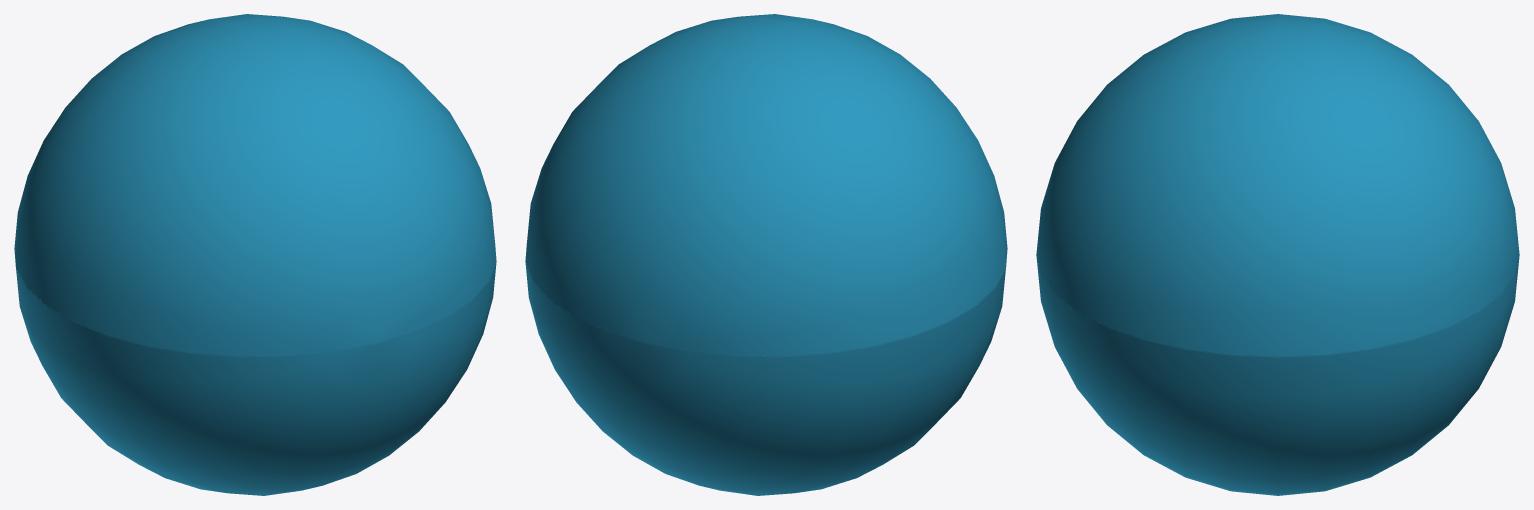
Rendered from xiaoqiu1.gltf.
3 renders of one model, left to right at view 1: azimuth 30°, elevation 25°; view 2: azimuth 150°, elevation 25°; view 3: azimuth 270°, elevation 25°, orthographic.
Parts seen in each view (by area): view 1: 对象192; view 2: 对象192; view 3: 对象192.
Part boxes in pixels (left/top/right/bottom): 对象192: left=14, top=14, right=496, bottom=495; 对象192: left=525, top=14, right=1007, bottom=495; 对象192: left=1036, top=14, right=1519, bottom=495.
Bounding box in the file's own units: 22 × 21.96 × 22.
1 material, 1 textured.
